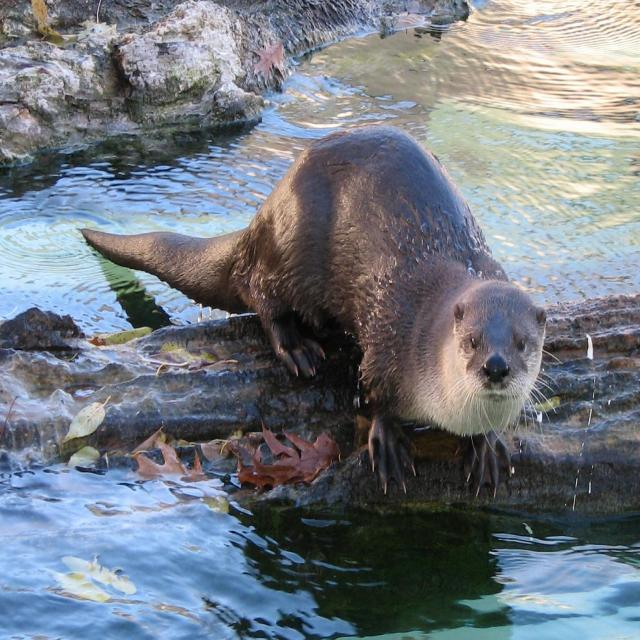otter: (83, 132, 547, 500)
